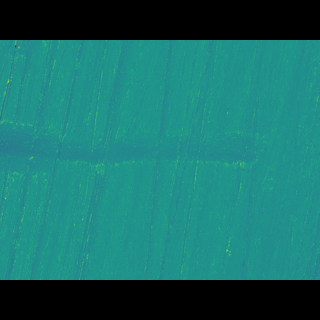Loch: (0, 129, 265, 174)
